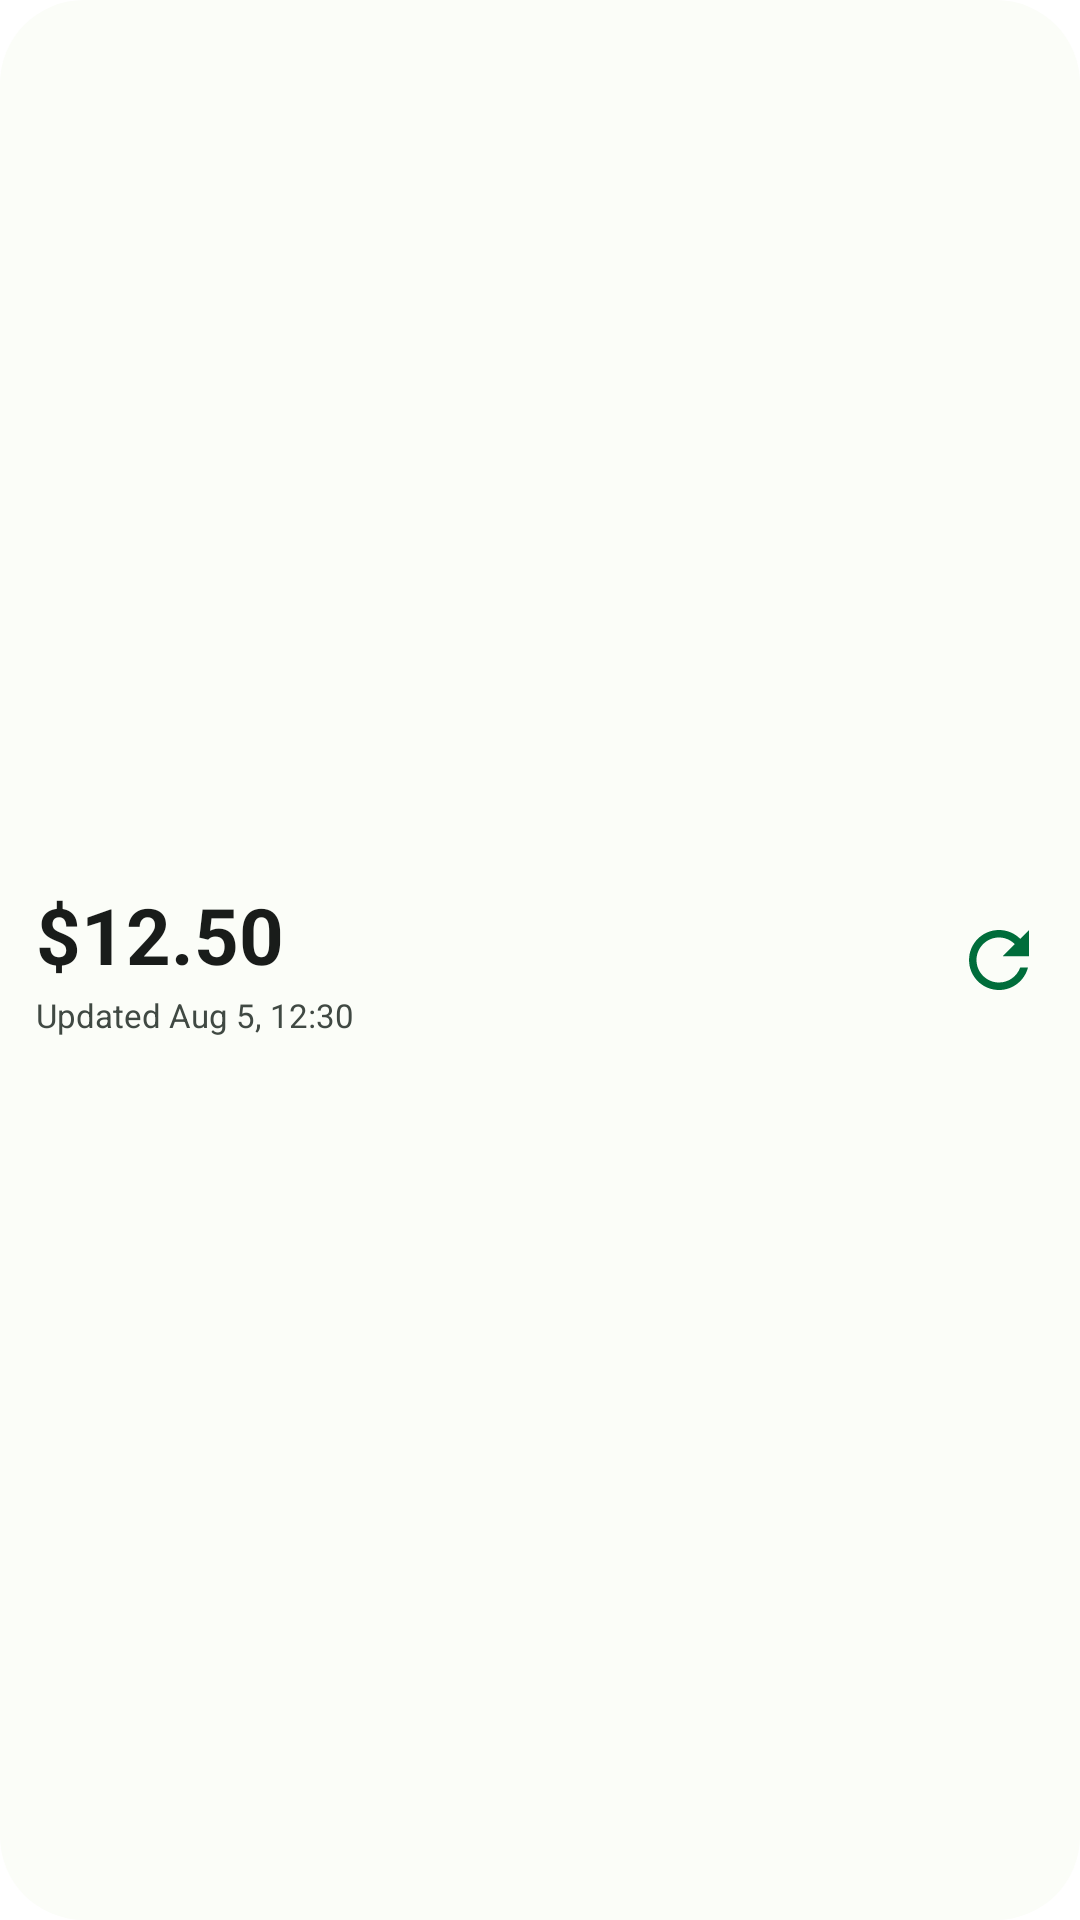

Point at icon controls on the screen. Image size 1080×1920, points as [x,y].
refresh: [999,960]
